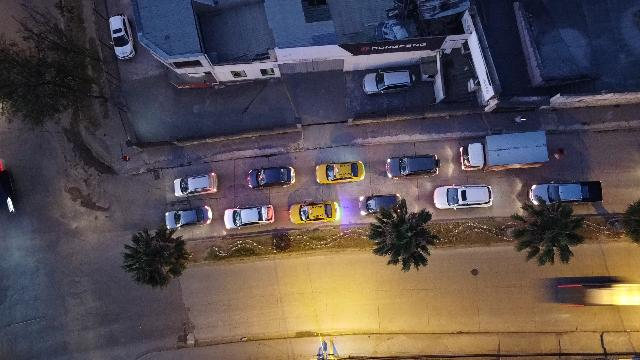Vehiculo: (530, 180, 602, 206), (433, 185, 492, 210), (362, 71, 414, 96), (386, 154, 440, 178), (224, 204, 274, 229), (109, 14, 135, 60), (164, 206, 212, 230), (290, 202, 340, 224), (174, 172, 218, 197), (247, 166, 295, 188), (316, 162, 364, 184), (358, 194, 402, 216), (460, 142, 484, 170)
